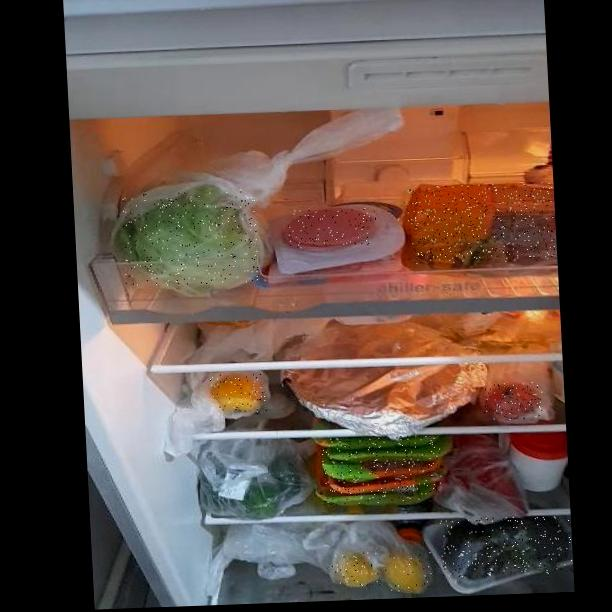bread: (405, 182, 556, 266)
broccoli: (440, 515, 573, 578)
chicken: (321, 435, 443, 505)
lemon: (210, 373, 267, 414), (384, 551, 434, 592), (331, 551, 379, 587)
lettuce: (121, 189, 259, 287)
salami: (287, 207, 377, 249)
tomato: (483, 382, 544, 421)
